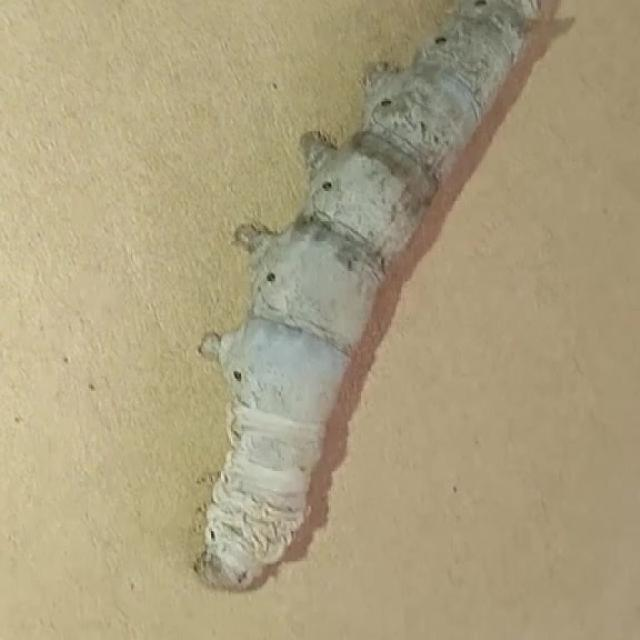Grasserie: (168, 0, 586, 615)
